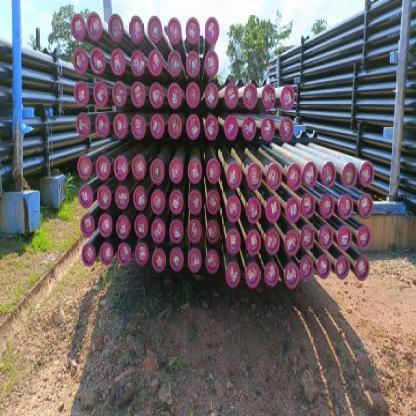pipe: (85, 10, 102, 40), (109, 48, 126, 77), (358, 159, 375, 188), (246, 160, 262, 190), (266, 160, 282, 190), (264, 194, 280, 224), (72, 78, 89, 106), (225, 160, 242, 188), (225, 194, 242, 222), (340, 160, 357, 188), (108, 13, 124, 42), (244, 194, 260, 223), (245, 227, 261, 256), (338, 191, 354, 220), (204, 218, 221, 245), (318, 192, 335, 219), (318, 223, 335, 250), (70, 12, 86, 40), (74, 110, 90, 138), (76, 151, 92, 179), (89, 46, 105, 74), (110, 78, 126, 106), (128, 14, 144, 42), (147, 48, 163, 76), (148, 80, 164, 108), (148, 111, 164, 139), (149, 156, 165, 184), (166, 48, 182, 76), (168, 246, 184, 274), (186, 246, 202, 274), (203, 48, 219, 76), (203, 82, 219, 110), (203, 113, 219, 141), (205, 156, 221, 184), (205, 187, 221, 215), (242, 82, 258, 110), (245, 260, 261, 288), (263, 260, 279, 288), (286, 162, 302, 190), (284, 196, 300, 224), (284, 228, 300, 256), (280, 83, 296, 111), (320, 160, 336, 188), (334, 252, 350, 280), (92, 80, 108, 107), (130, 112, 146, 139), (129, 80, 145, 107), (129, 49, 145, 76), (146, 15, 162, 42), (166, 16, 182, 43), (166, 82, 182, 109), (166, 112, 182, 139), (168, 187, 184, 214), (168, 218, 184, 245), (184, 82, 200, 109), (184, 16, 200, 43), (225, 228, 241, 255), (225, 260, 241, 287), (259, 115, 275, 142), (264, 228, 280, 255), (283, 261, 299, 288), (336, 223, 352, 250), (354, 254, 370, 281), (240, 115, 257, 140), (355, 224, 372, 249), (72, 46, 87, 74), (112, 111, 127, 139), (168, 156, 183, 184), (185, 49, 200, 77), (317, 252, 332, 280), (80, 240, 96, 266), (94, 112, 110, 138), (184, 113, 200, 139), (150, 216, 165, 243), (187, 216, 202, 243), (205, 248, 220, 275), (300, 192, 315, 219), (358, 192, 373, 219), (132, 212, 148, 237), (204, 15, 218, 43), (112, 154, 127, 180), (116, 240, 131, 266), (134, 240, 149, 266), (150, 187, 165, 213), (187, 187, 202, 213), (187, 158, 202, 184), (261, 84, 276, 110), (302, 161, 317, 187), (130, 154, 146, 178), (78, 182, 92, 209), (224, 82, 238, 109), (300, 223, 314, 250), (95, 154, 110, 179), (96, 184, 111, 209), (97, 212, 112, 237), (98, 240, 113, 265), (114, 184, 129, 209), (151, 247, 166, 272), (279, 116, 294, 141), (132, 186, 148, 209), (224, 114, 238, 140), (115, 214, 130, 238), (80, 213, 94, 238), (299, 255, 313, 280)
